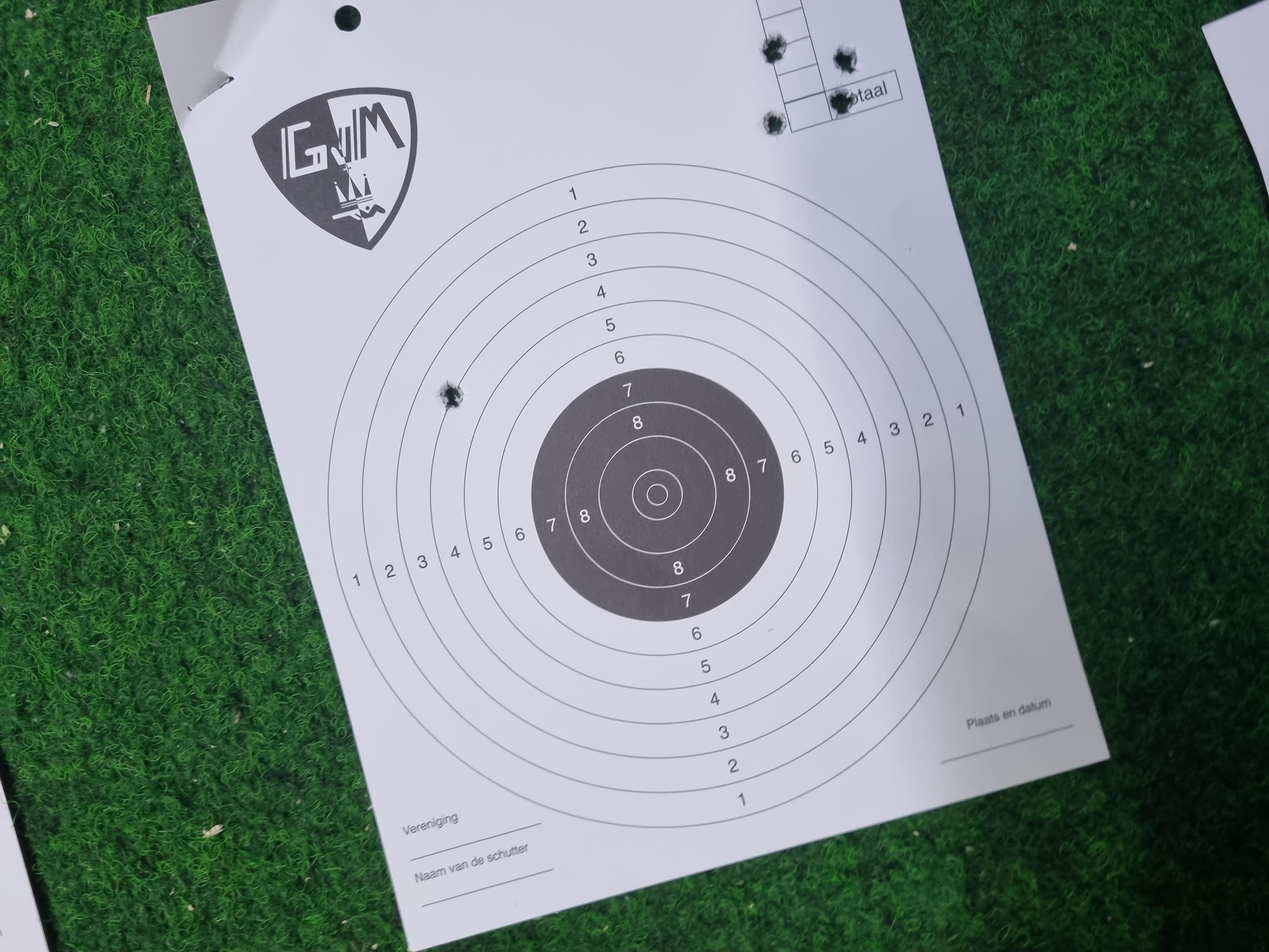hole: (1183, 570, 1225, 590), (1111, 621, 1151, 641), (1170, 624, 1208, 643), (722, 330, 762, 348), (1086, 571, 1120, 591)
